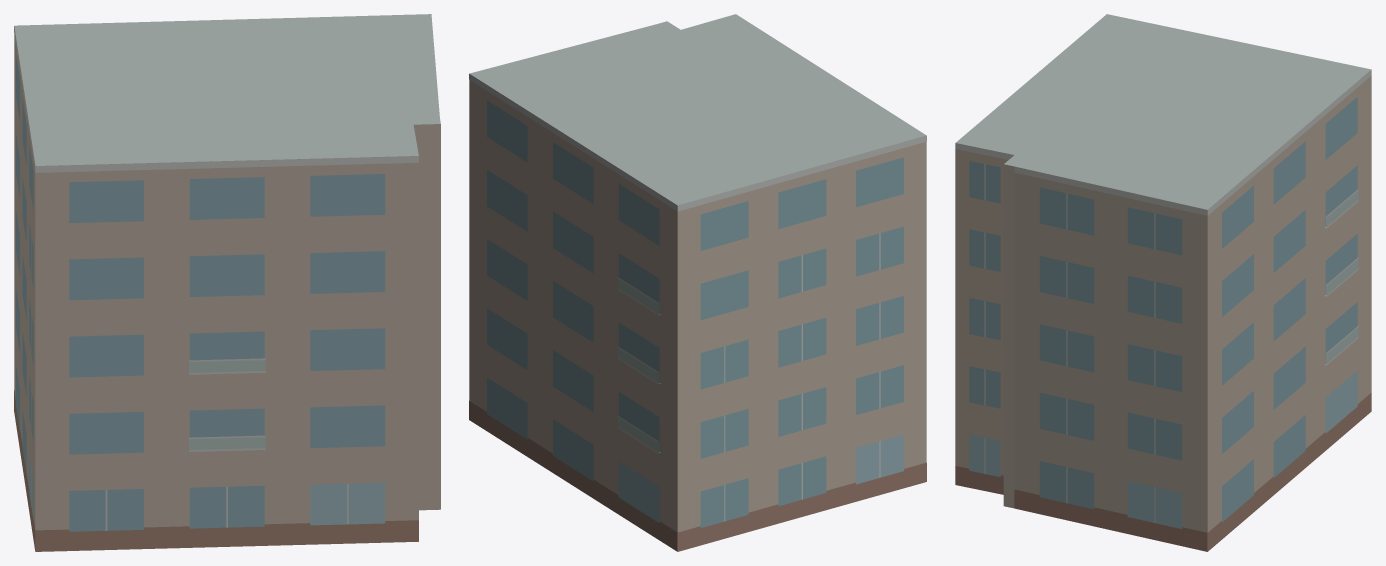
The model's file is survey-upis-32846168.glb.
3 views of the same model, side by side, from view 1: azimuth 30°, elevation 25°; view 2: azimuth 150°, elevation 25°; view 3: azimuth 270°, elevation 25° (orthographic). The views are drawn at different scales.
Visible parts, largest first — view 1: survey-upis-32846168.tmp; view 2: survey-upis-32846168.tmp; view 3: survey-upis-32846168.tmp.
Boxes of the visible parts, x1,y1,x2,y2 form: survey-upis-32846168.tmp: (14,14,440,551); survey-upis-32846168.tmp: (469,14,926,551); survey-upis-32846168.tmp: (955,14,1371,551).
Size of the model in its own units: 16.96 by 13.8 by 15.23.
